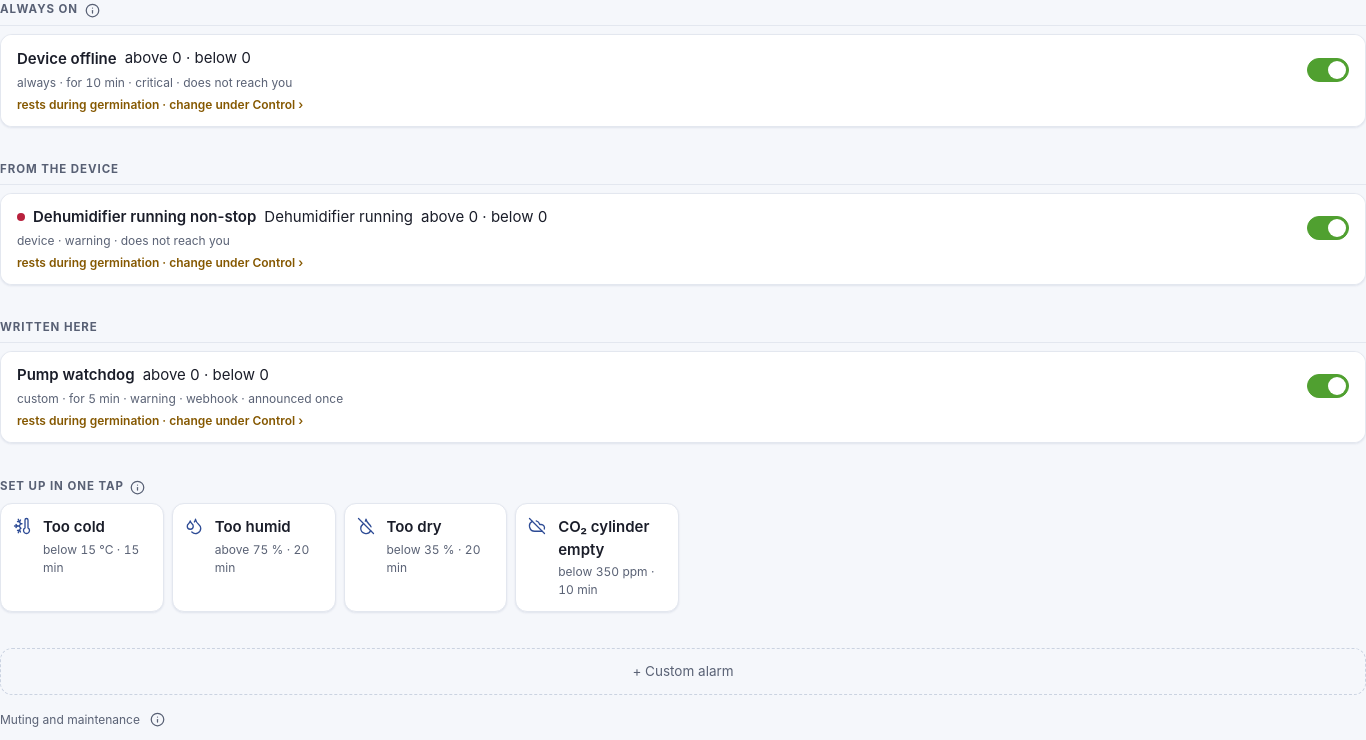
the alarm templates › marks the rule a template wrote, which opens like any other
The width and height of the screenshot is (1366, 740).
(page scrolled)
Click the button with aria-label "Set up Too cold" at x=82, y=558, box [0, 504, 164, 612]
(page scrolled)
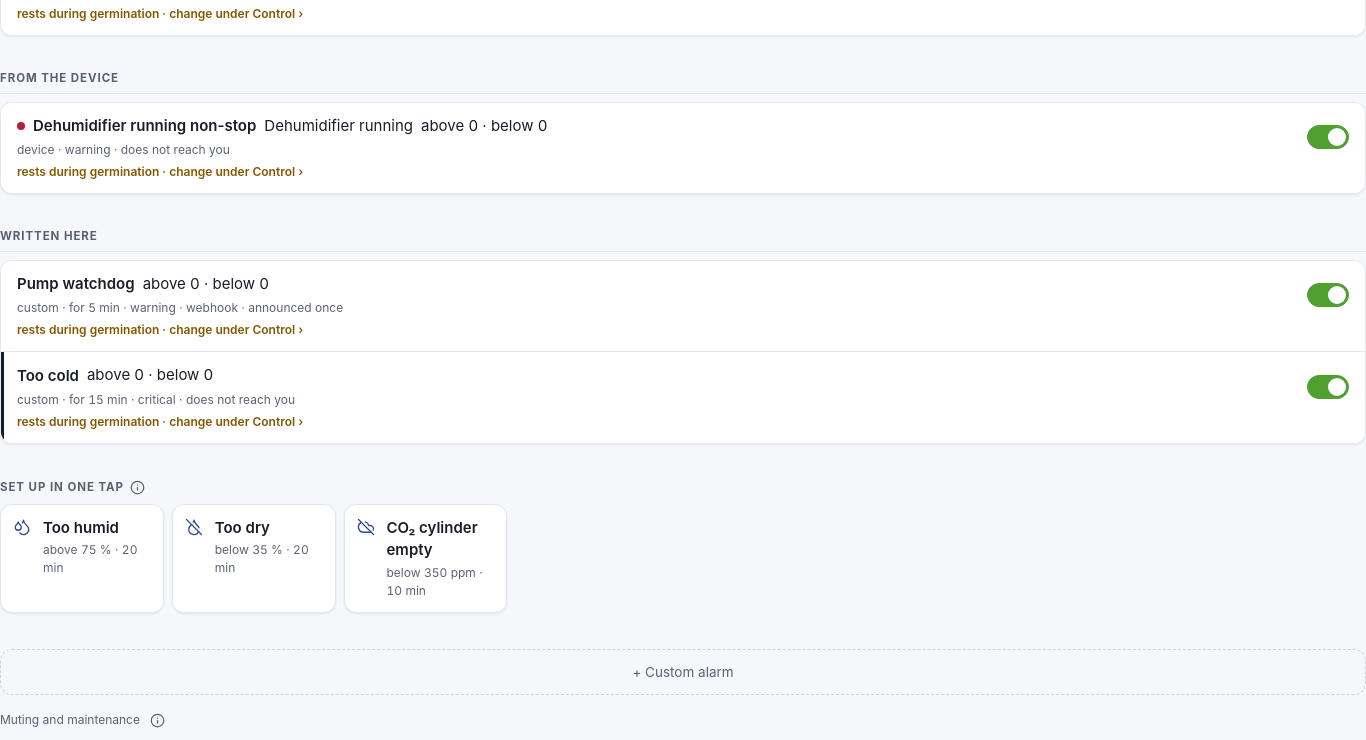
Click the button "Too cold" at x=48, y=375, box [17, 364, 1295, 409]
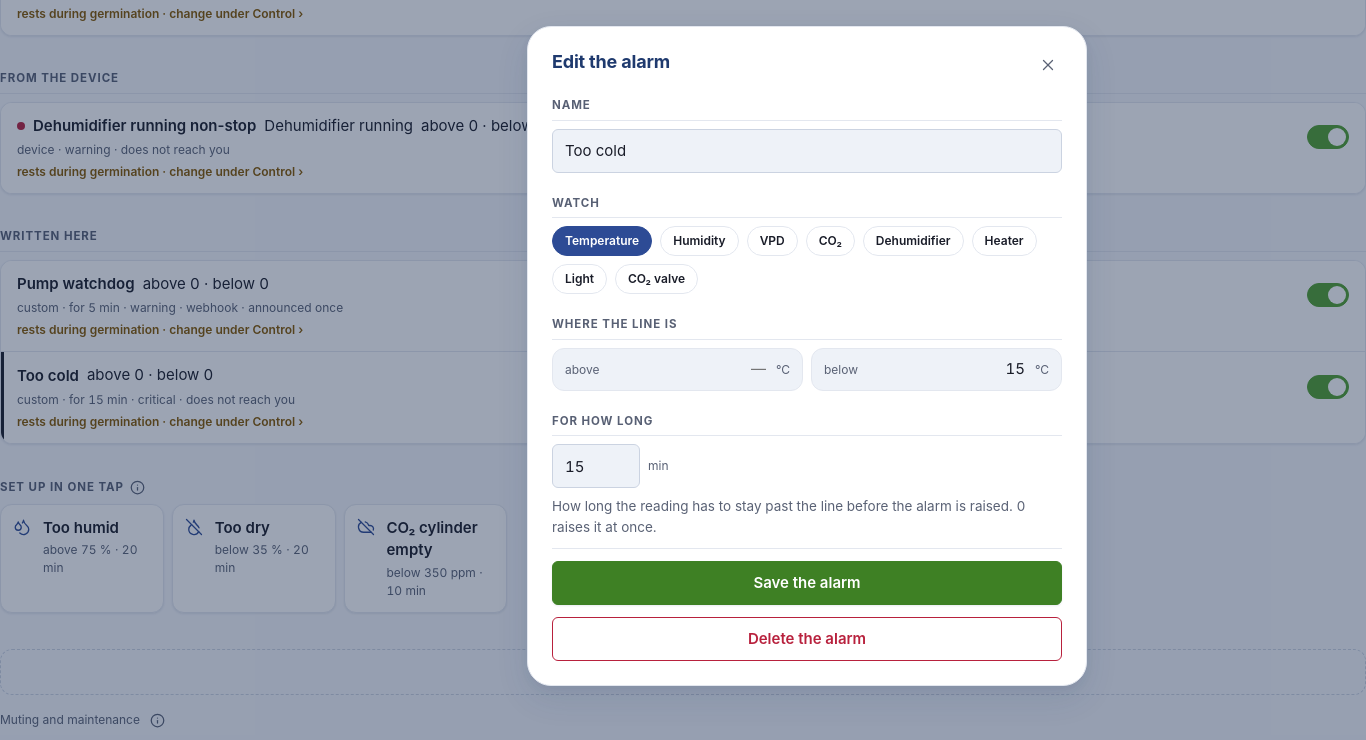
Expected: the field named "Name" holds "Too cold", [552, 129, 1062, 173]
